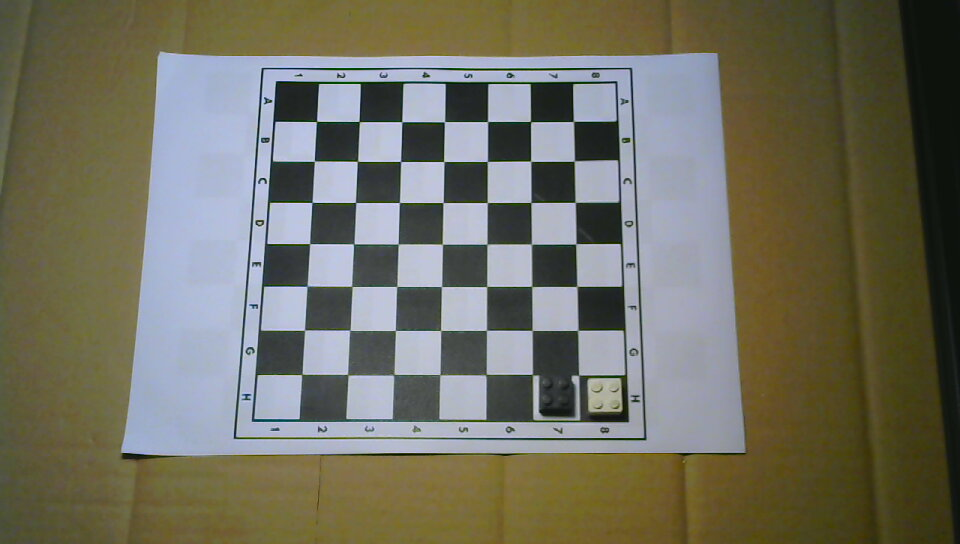bp: (537, 373, 576, 416)
wp: (585, 376, 625, 417)
